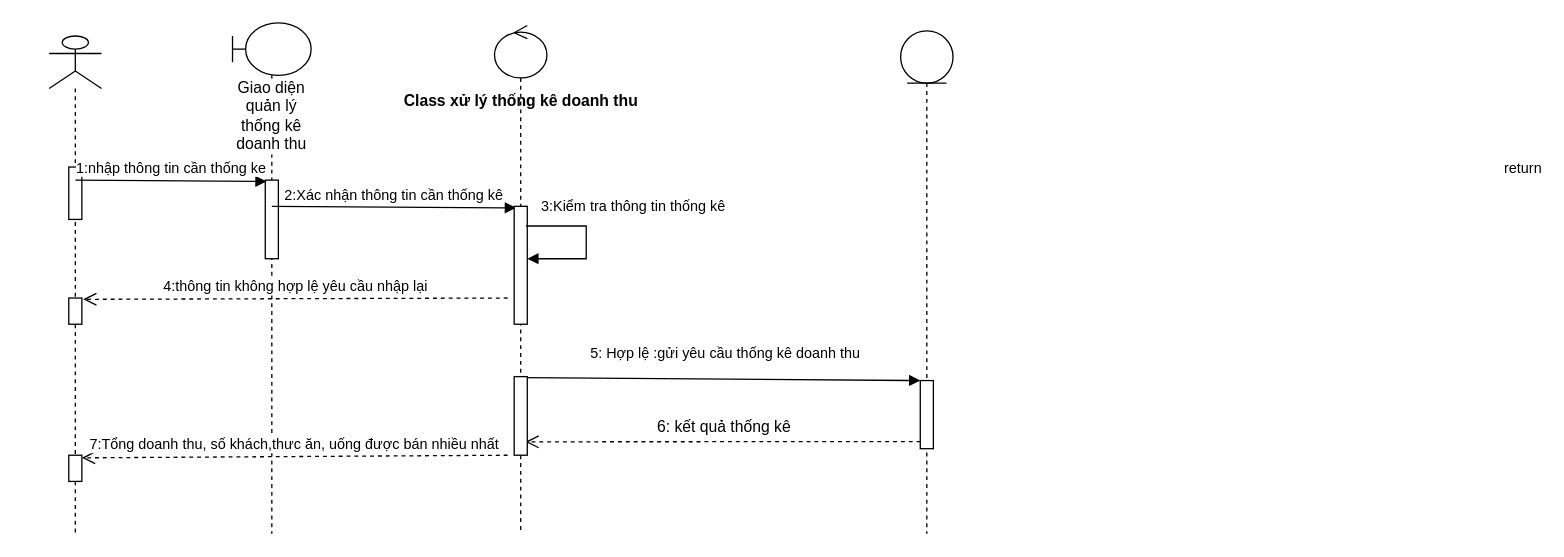
This 1564x557 diagram has some shape labels left out. Each missing label, with the box of its shape:
Database: (899, 29, 953, 534)
Quản trị: (48, 35, 102, 534)
